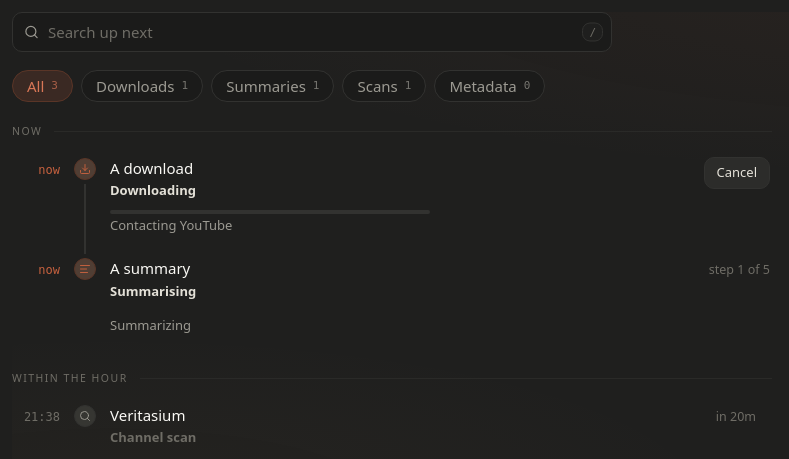
Test: UpNext filters › narrows to one kind, hiding the other lane and the schedule
Expected: the text "Veritasium" is shown, left=110, top=404, right=185, bottom=424
Click the button "Downloads 1" at [142, 86], box left=81, top=70, right=203, bottom=102
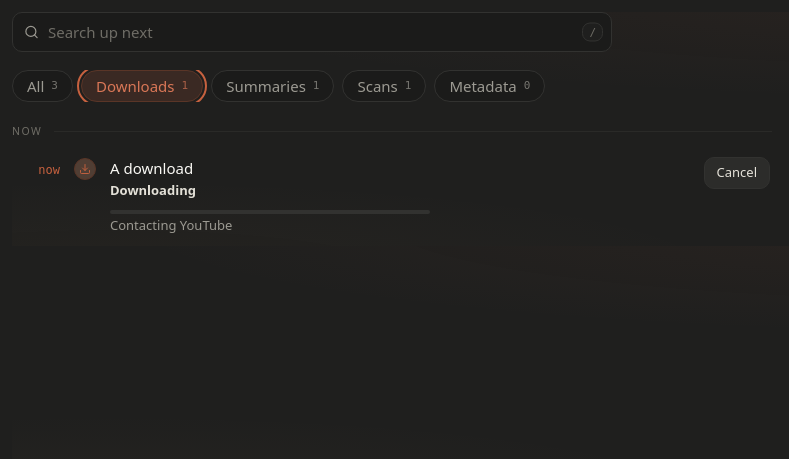
Expected: the text "A download" is shown, left=110, top=158, right=193, bottom=178
Now the text "A summary" is gone
Now the text "Veritasium" is gone
